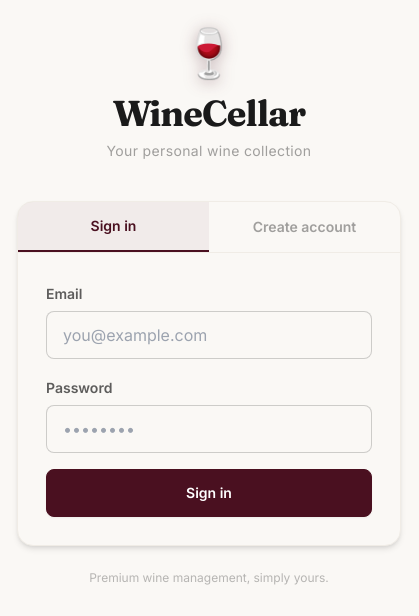
Test: LoginPage › shows error when password too short
This screenshot has width=419, height=616.
Type "test@example.com" into the field with test id "email-input".
click(209, 335); type("test@example.com")  # box left=46, top=311, right=372, bottom=359
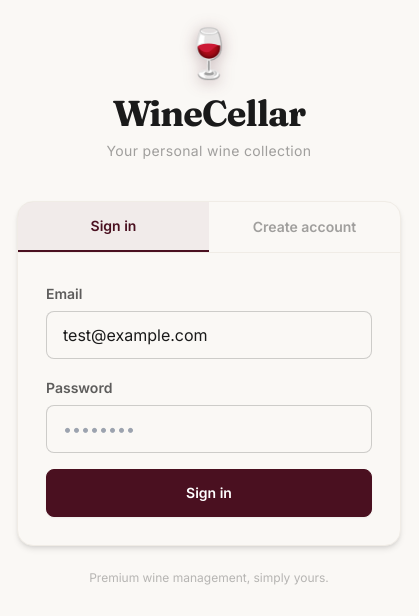
Type "abc" into the password field with test id "password-input".
click(209, 429); type("abc")  # box left=46, top=405, right=372, bottom=453
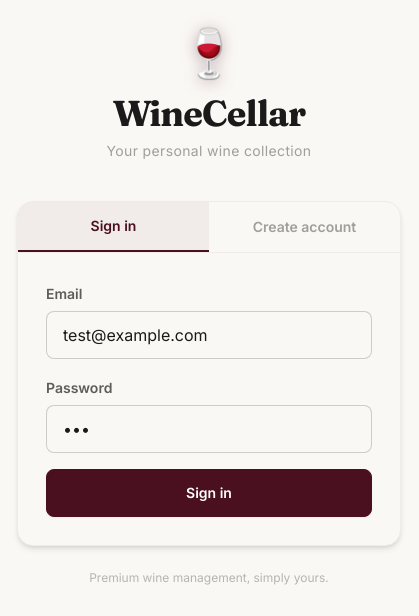
Click the button with test id "login-btn".
click(209, 493)  # box left=46, top=469, right=372, bottom=517
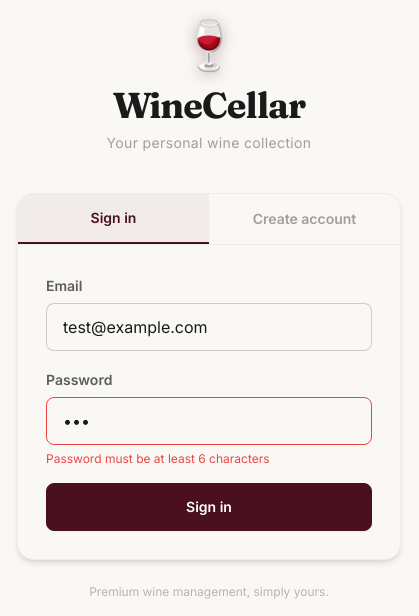
Expected: the text "at least 6 characters" is shown, left=46, top=451, right=270, bottom=466
